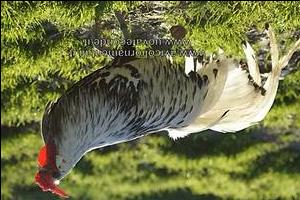hen: (33, 9, 300, 199)
